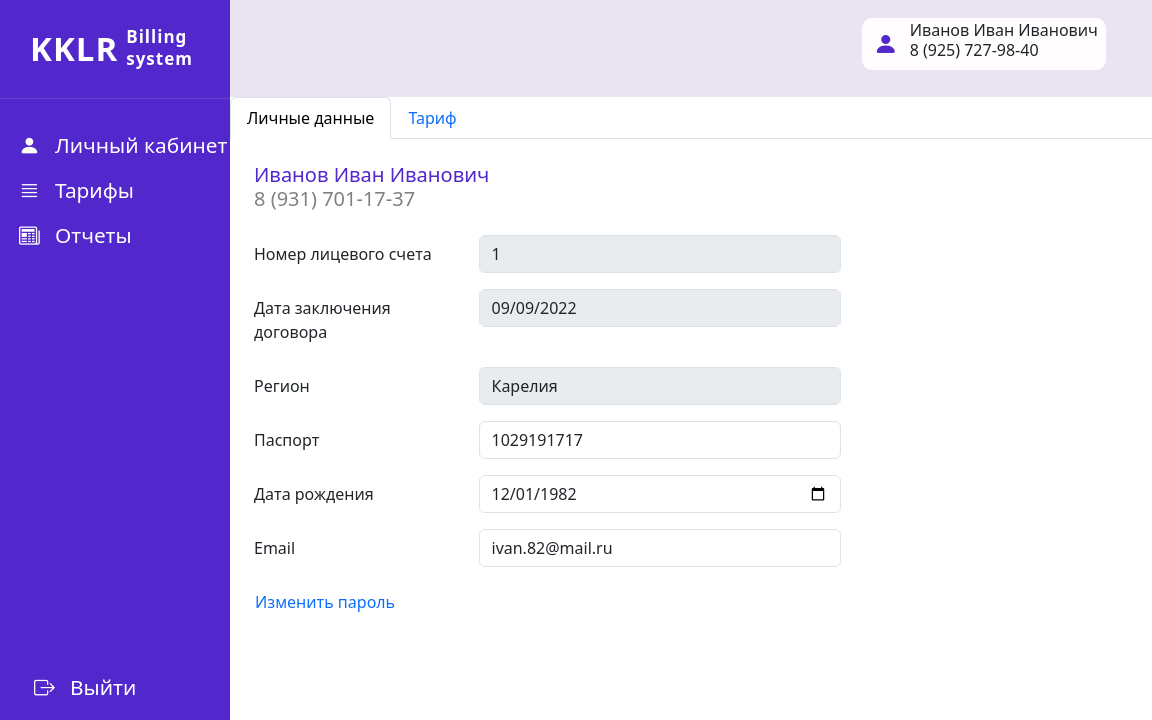
Test case: routes › check opened modal window on change passport data
Replace the text in the field with test id "input-passport" with "1234567890": (660, 440) [478,421,841,459]
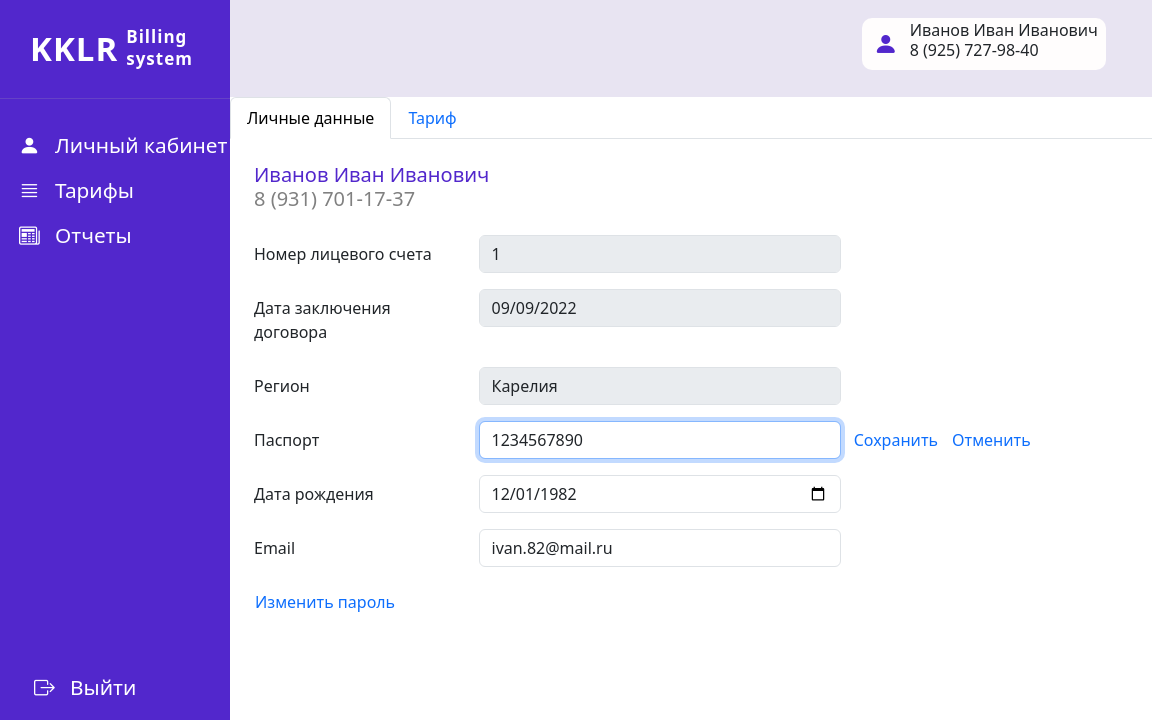
Click the button with test id "submit-passport": click(896, 440) [853,421,939,459]
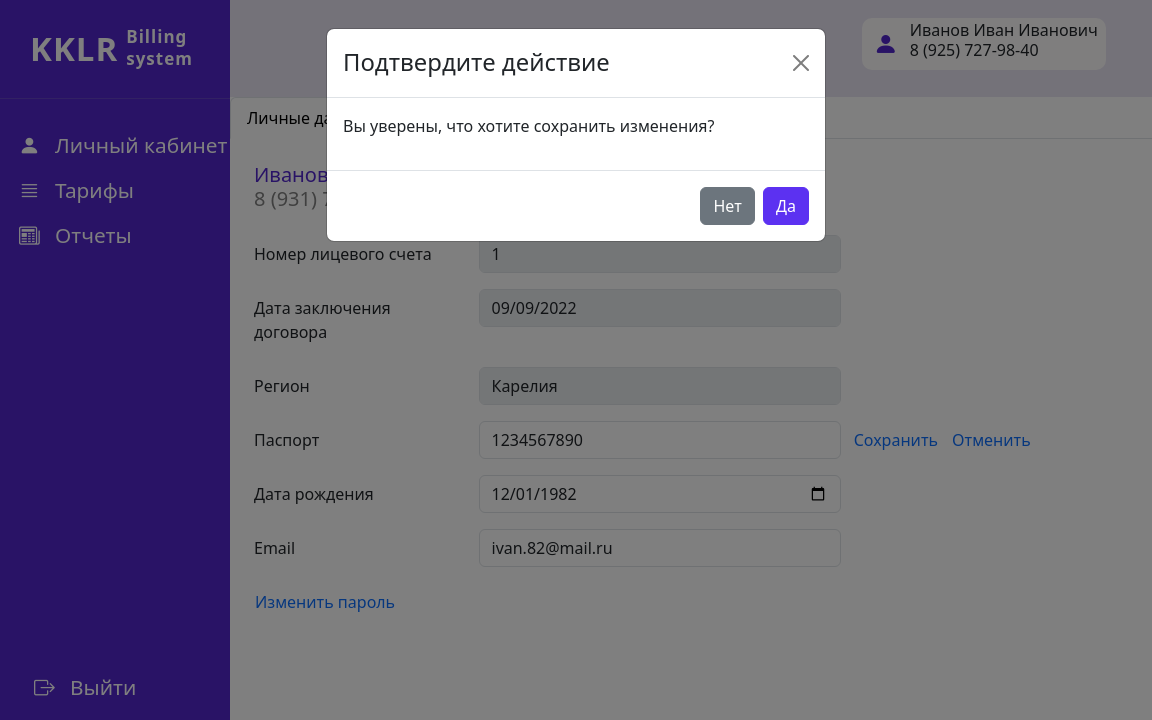
expect the text "Вы уверены, что хотите сохранить изменения?" is shown: met, box [343,115,714,137]
